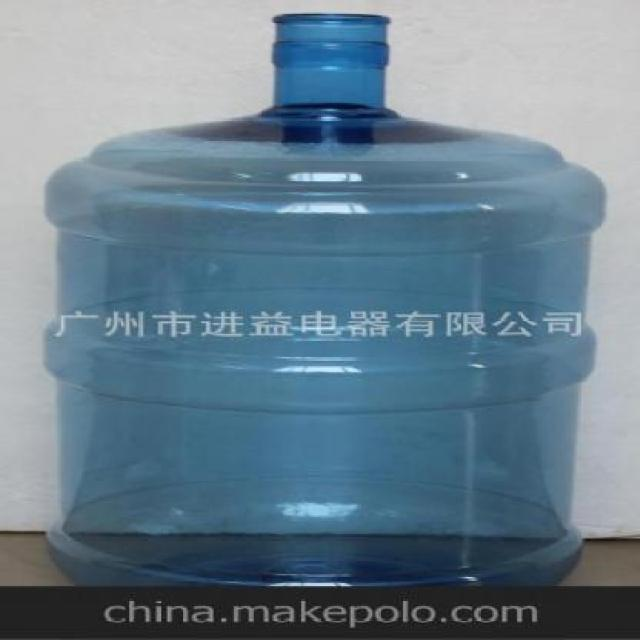coolerbottle: (31, 9, 622, 588)
